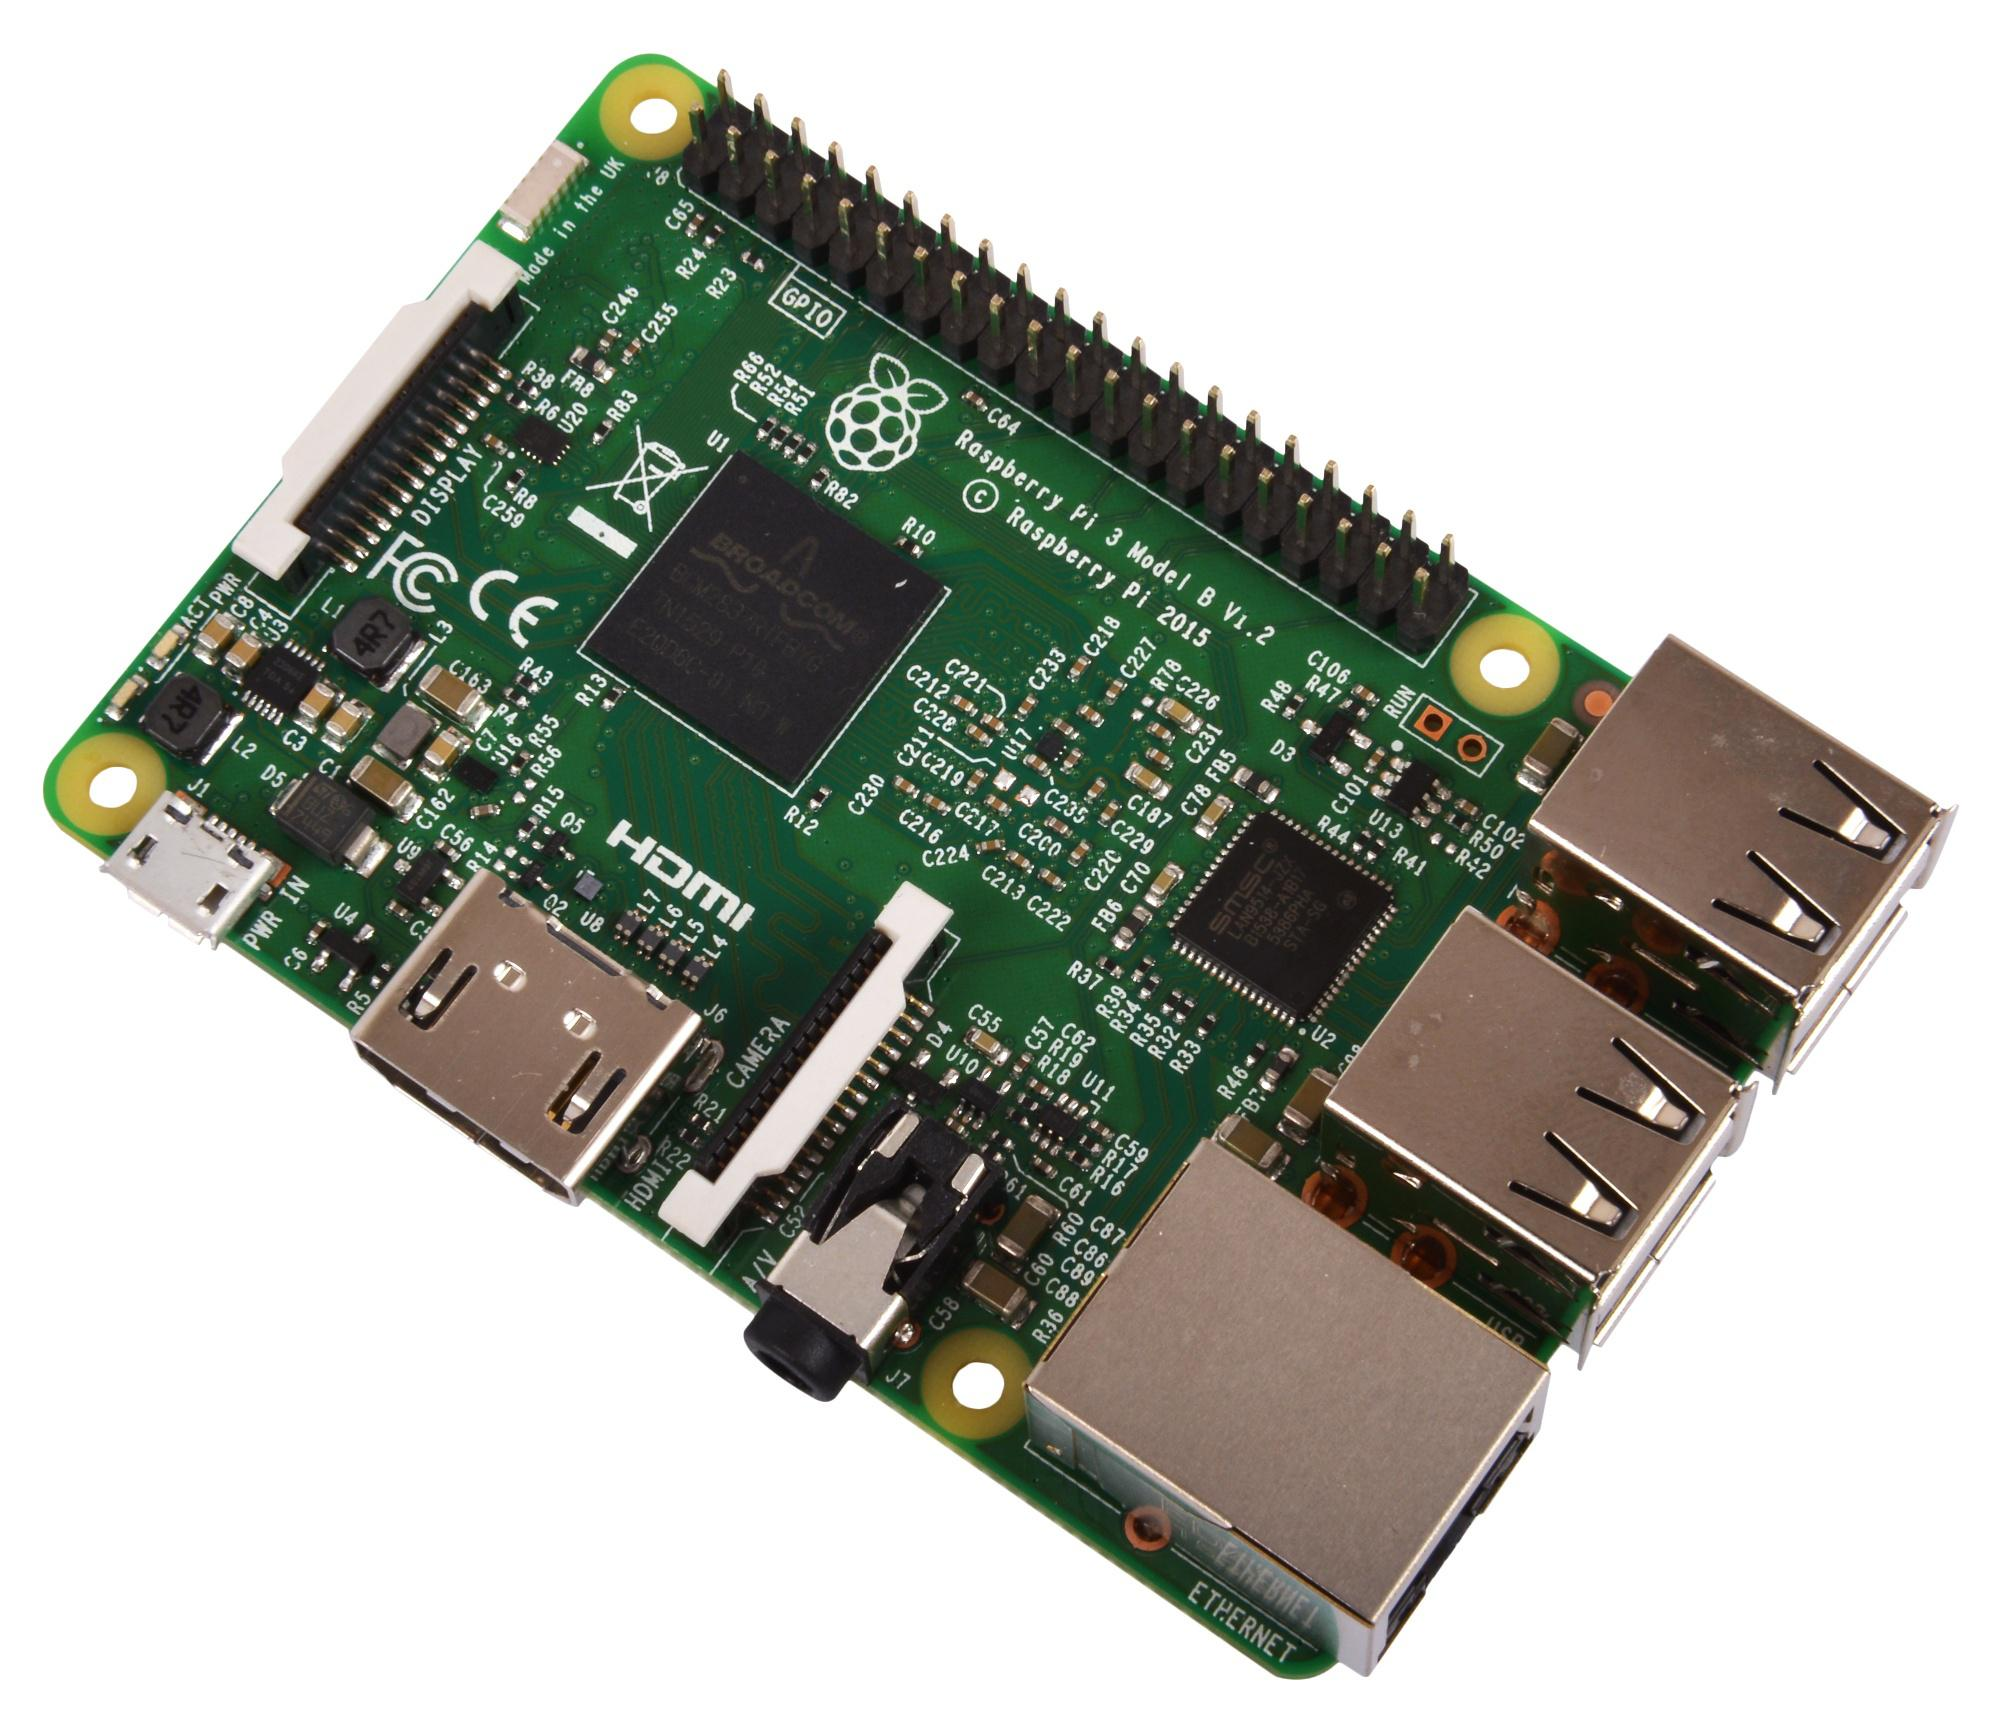audiojack: (740, 1118, 995, 1419)
bchi: (597, 442, 961, 798)
ethernet: (1036, 1140, 1526, 1650)
gpio: (677, 73, 1488, 655)
usb: (1325, 895, 1750, 1357), (1541, 624, 1951, 1077)
